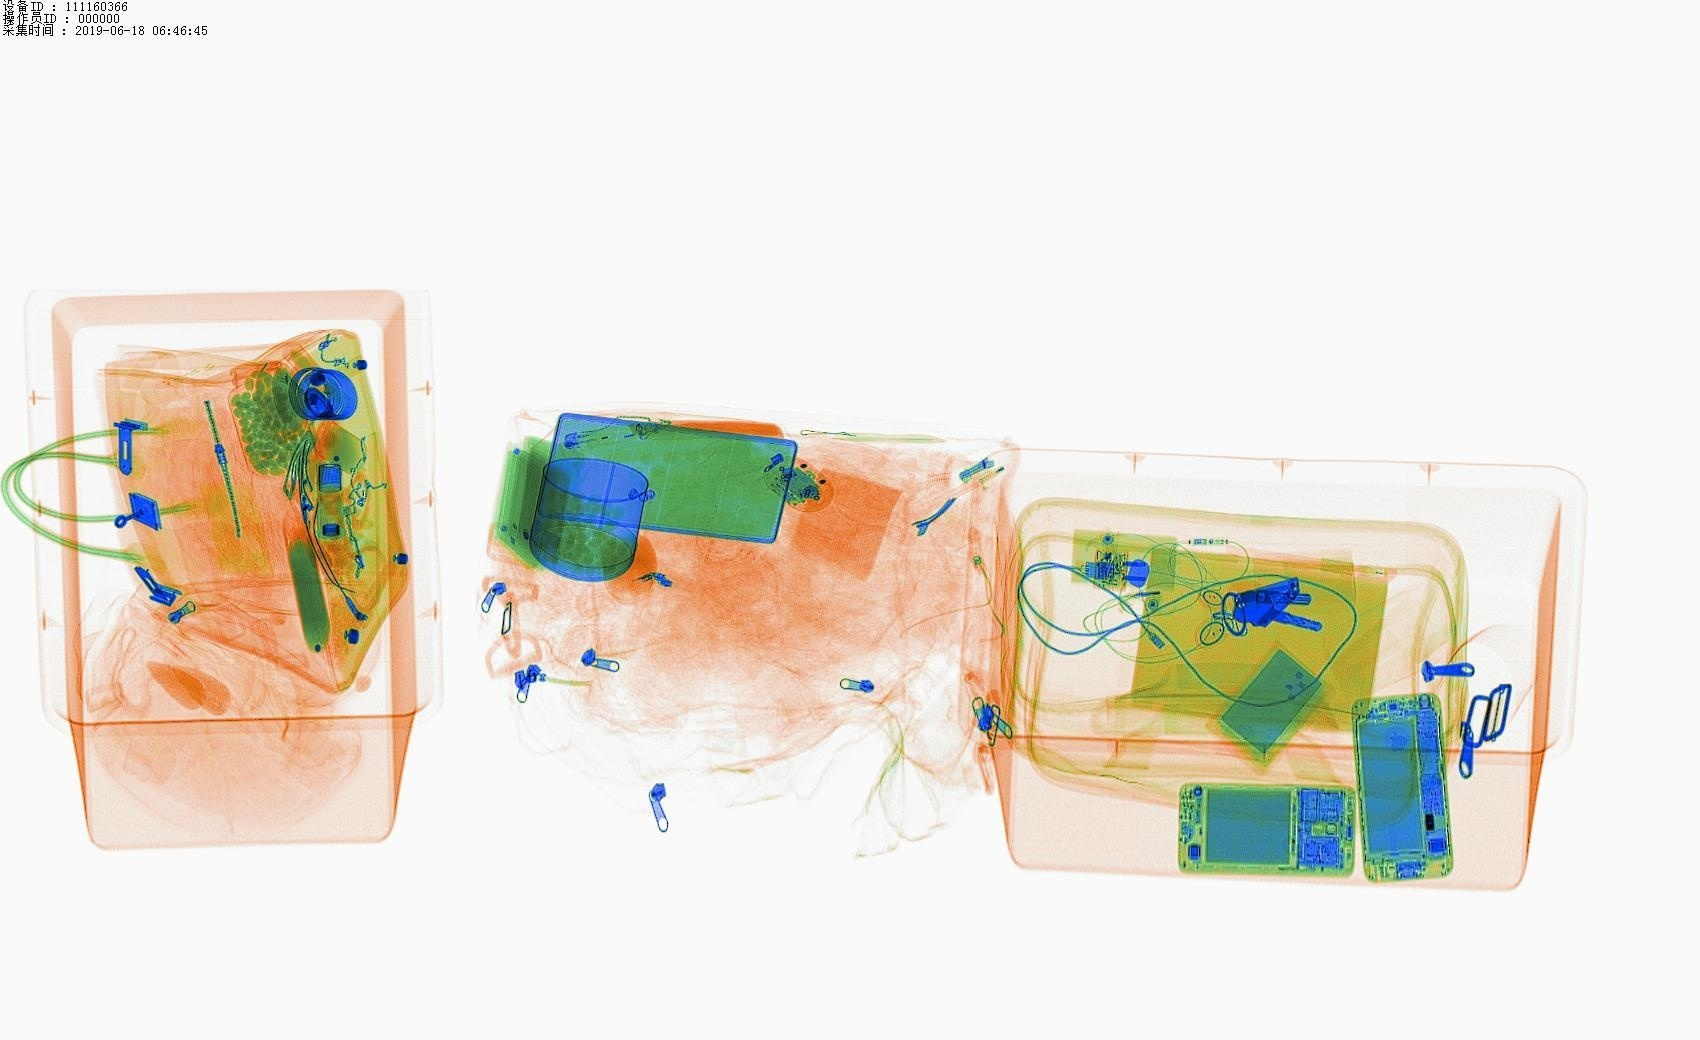NonmetallicFire: (550, 409, 662, 460)
